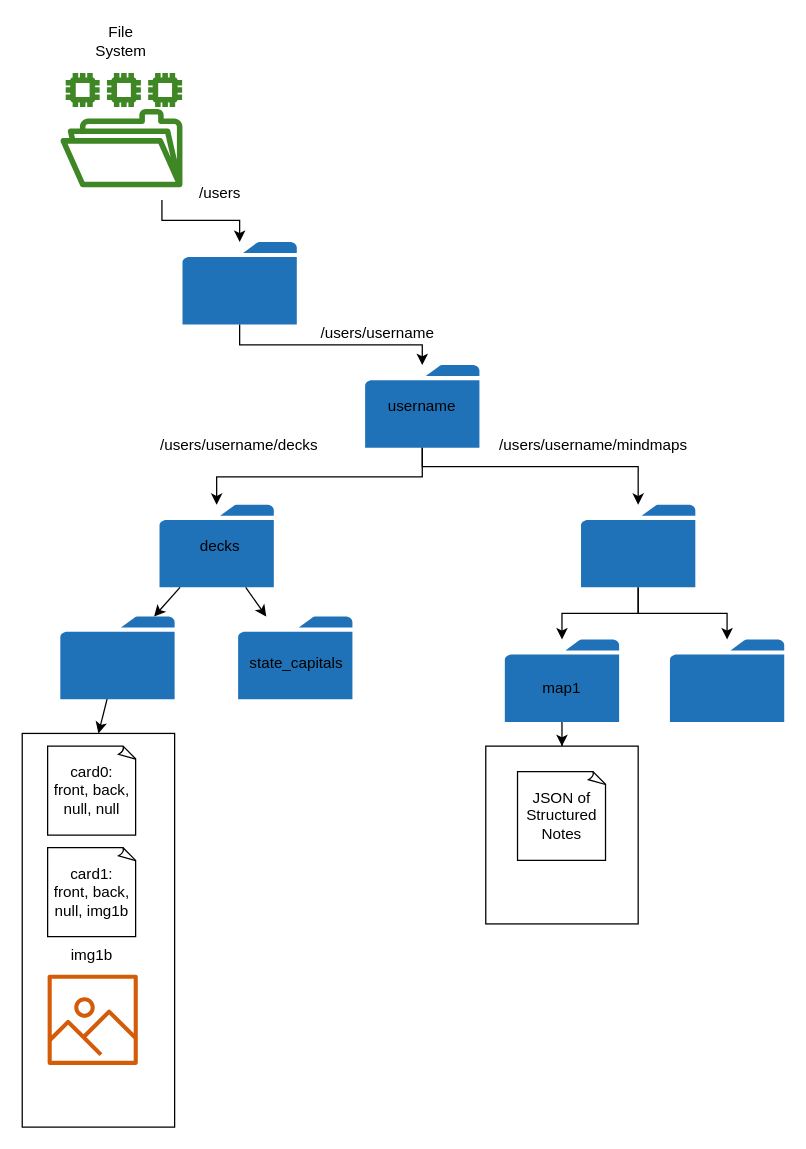
This 806x1149 diagram has some shape labels left out. The centre of each missing label's shape, as x and y in pixels:
"deck1" goes at (117,657).
"mindmaps" goes at (637,545).
"users" goes at (239,282).
